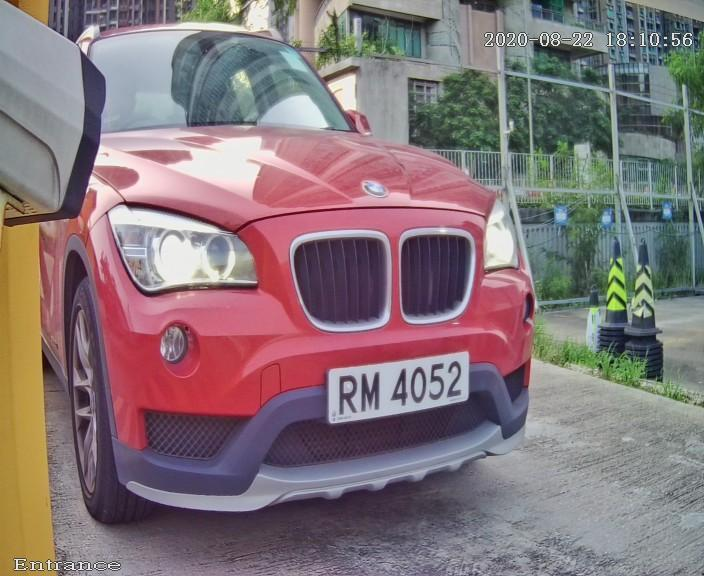Car: (29, 16, 582, 543)
License Plate: (296, 328, 491, 443)
